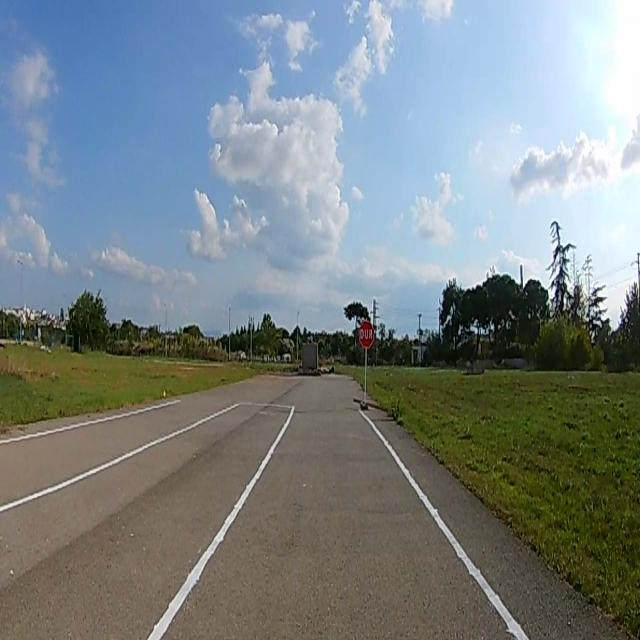dur: (360, 322, 374, 348)
